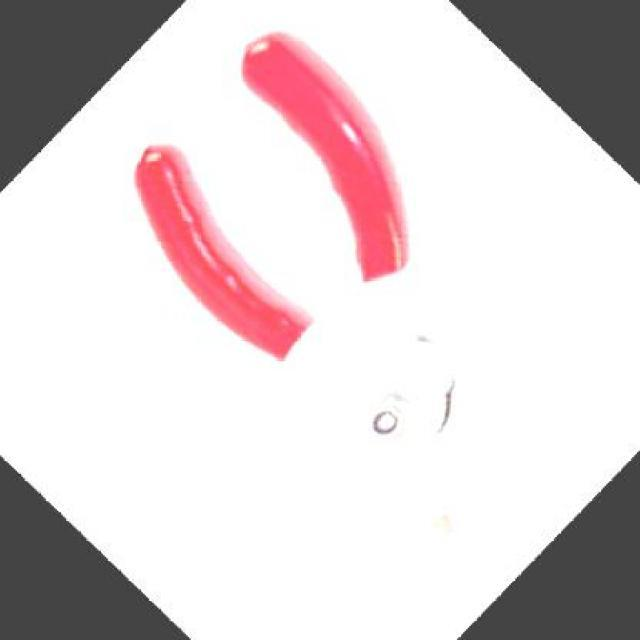pliers: (56, 0, 638, 588)
